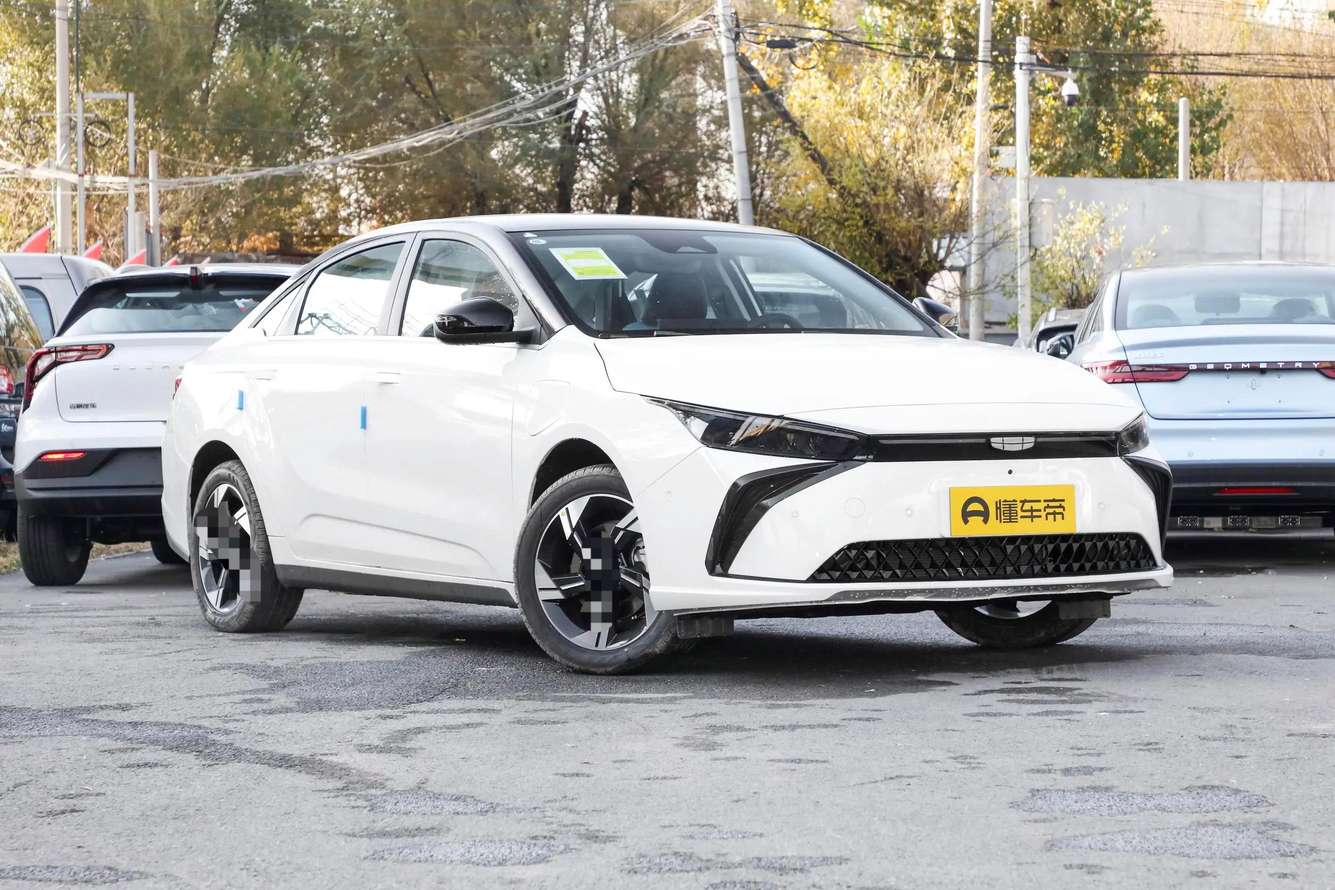GEOMETRY: (991, 437, 1034, 450)
